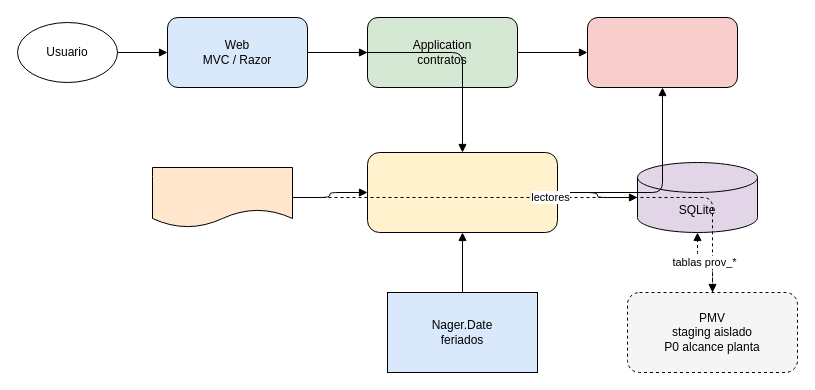
The diagram is 815 pixels wide and 390 high, and some of its shapes have lost their labels. The centre of each missing label's shape, as x and y in pixels:
"Domain reglas" goes at (662,52).
"Infrastructure EF / archivos / Excel" goes at (462,192).
"ZKTeco TXT / DAT" goes at (222,197).
